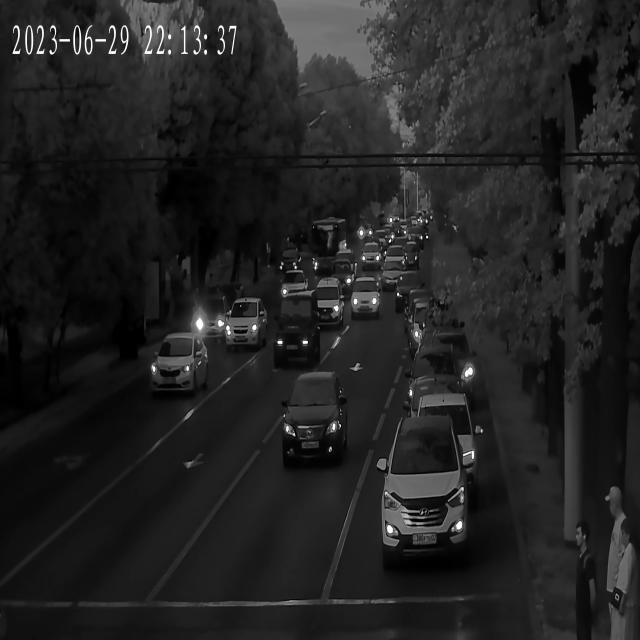Bus: (308, 220, 351, 271)
Car: (378, 416, 475, 567), (274, 373, 348, 466), (400, 399, 479, 486), (144, 335, 209, 400), (407, 348, 468, 408), (405, 373, 471, 428), (415, 335, 477, 393), (273, 296, 320, 369), (219, 297, 268, 352), (301, 281, 349, 329), (405, 292, 435, 362), (193, 301, 236, 342), (346, 280, 386, 318), (393, 276, 428, 316), (325, 258, 359, 291), (279, 273, 311, 301), (381, 269, 409, 294), (357, 244, 381, 266), (381, 248, 407, 268), (278, 256, 300, 276)
